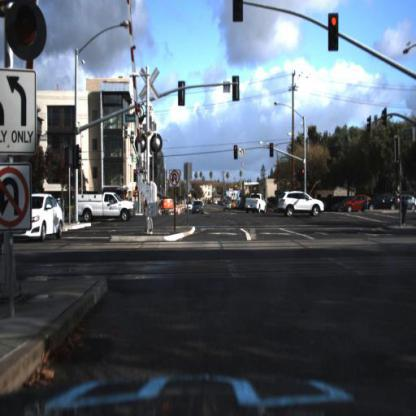car: (18, 191, 68, 238), (74, 189, 138, 223), (276, 185, 329, 223), (363, 192, 406, 215), (246, 185, 271, 218), (335, 194, 371, 212), (377, 189, 400, 213), (192, 198, 206, 219), (222, 196, 234, 215)
pedestrian: (401, 186, 409, 233)
trafficLight: (8, 2, 46, 59), (233, 2, 244, 23)
trafficLight-Red: (328, 13, 340, 53), (269, 139, 277, 160), (233, 142, 239, 163), (301, 165, 307, 185)
truck: (72, 187, 140, 223)
